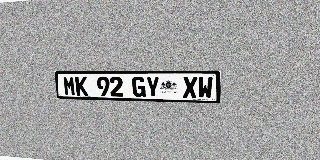plate: (54, 71, 221, 103)
